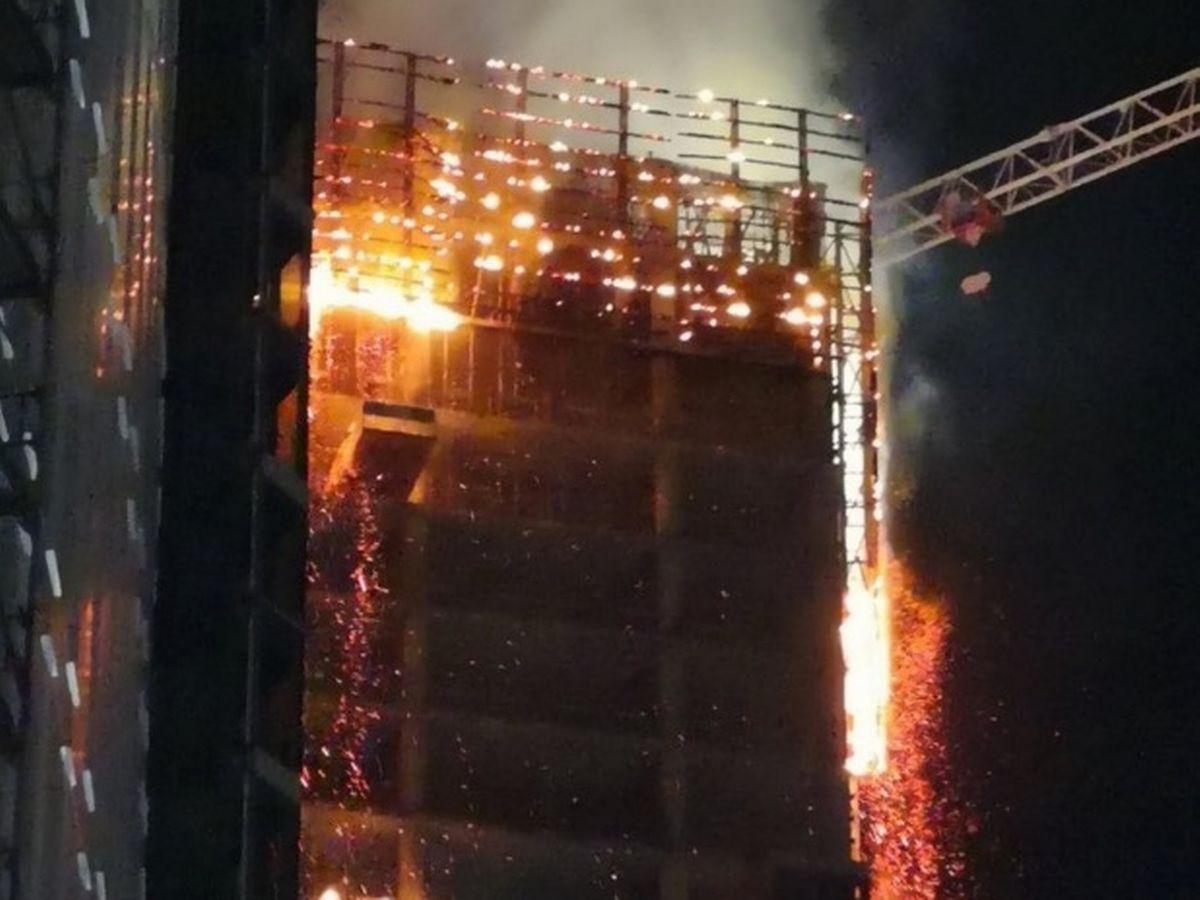Fire: (271, 117, 927, 382), (792, 499, 969, 900)
